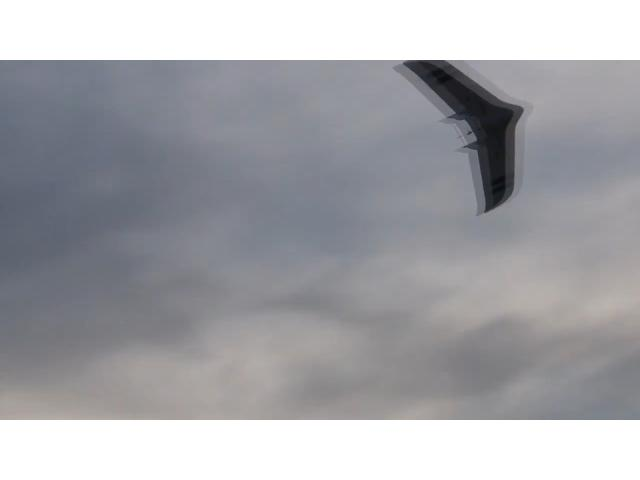Anti-Drone: (403, 65, 525, 213)
